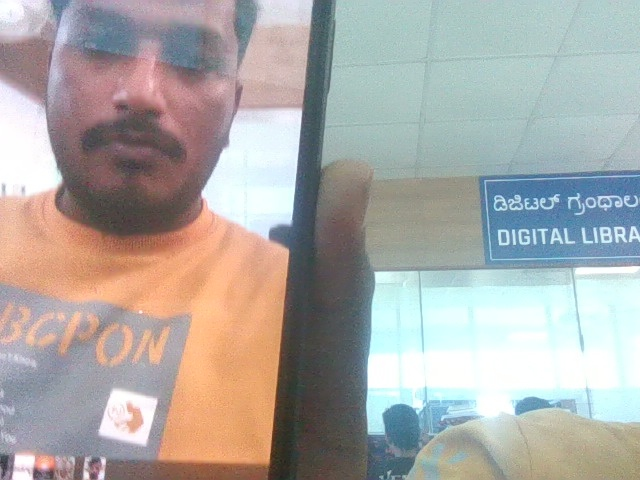fake: (14, 0, 274, 368)
